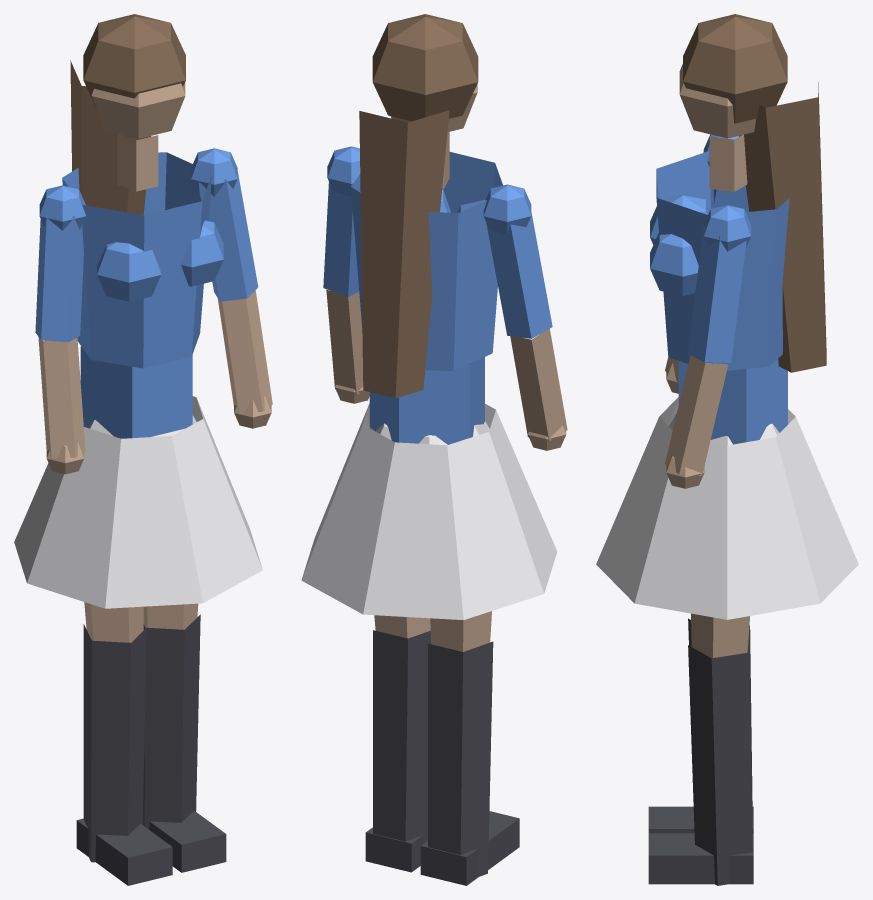
The model's file is angel_stand_b.glb.
3 views of the same model, side by side, from view 1: azimuth 30°, elevation 25°; view 2: azimuth 150°, elevation 25°; view 3: azimuth 270°, elevation 25° (orthographic). The views are drawn at different scales.
Visible parts, largest first — view 1: angel_stand_b; view 2: angel_stand_b; view 3: angel_stand_b.
Part boxes in pixels (x1,y1,x2,y2): angel_stand_b: (14,14,272,885); angel_stand_b: (301,14,567,885); angel_stand_b: (596,14,858,885).
Bounding box in the file's own units: 0.4788 × 1.68 × 0.475.
